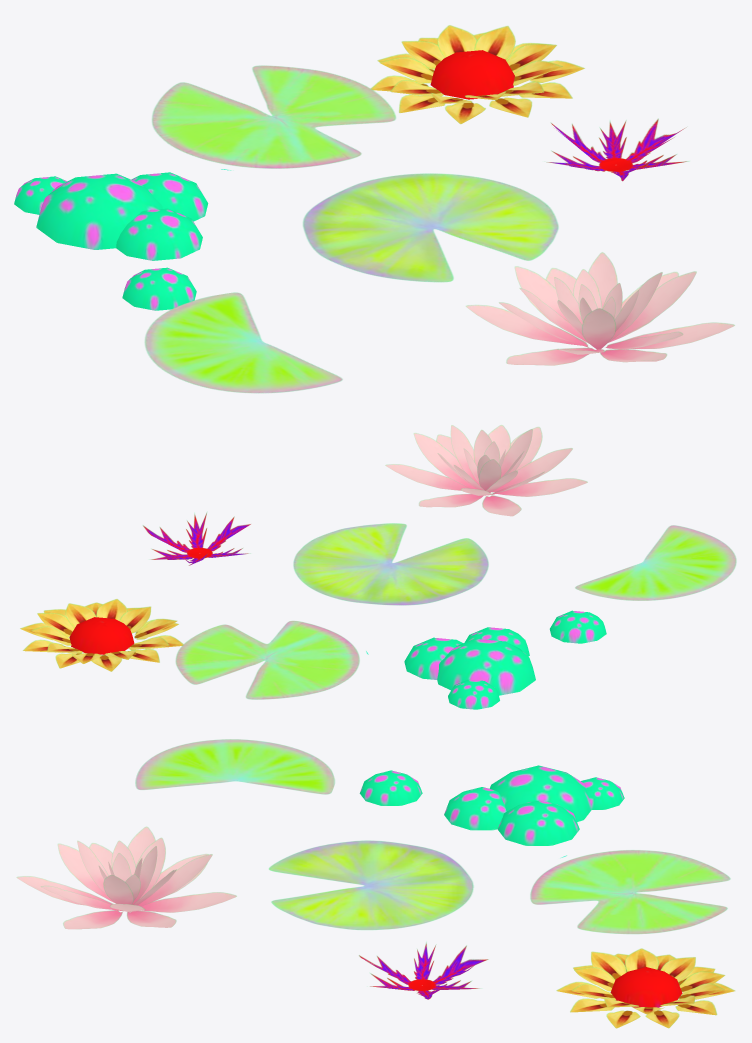
File: nenufar-gigante.glb
3 renders of one model, top to bottom at view 1: azimuth 30°, elevation 25°; view 2: azimuth 150°, elevation 25°; view 3: azimuth 270°, elevation 25°, orthographic. The views are drawn at different scales.
Visible parts, largest first — view 1: veg_nenufar03, veg_nenufar02, veg_flor_nenufar, veg_alga02, veg_flor_xochiquetal, veg_nenufar01, veg_flor_solilia, veg_alga05; view 2: veg_nenufar03, veg_nenufar02, veg_flor_nenufar, veg_flor_xochiquetal, veg_alga02, veg_nenufar01, veg_flor_solilia, veg_alga05; view 3: veg_nenufar03, veg_nenufar02, veg_flor_nenufar, veg_alga02, veg_flor_xochiquetal, veg_nenufar01, veg_flor_solilia, veg_alga05.
Boxes of the visible parts, x1,y1,x2,y2 form: veg_nenufar03: (303,173,558,282); veg_nenufar02: (152,65,395,170); veg_flor_nenufar: (466,252,734,365); veg_alga02: (14,172,208,260); veg_flor_xochiquetal: (370,25,584,123); veg_nenufar01: (144,292,342,393); veg_flor_solilia: (546,118,688,181); veg_alga05: (122,267,196,310); veg_nenufar03: (293,523,488,605); veg_nenufar02: (175,621,368,699); veg_flor_nenufar: (385,425,587,516); veg_flor_xochiquetal: (20,599,183,671); veg_alga02: (404,627,535,709); veg_nenufar01: (575,525,736,600); veg_flor_solilia: (142,513,250,565); veg_alga05: (549,610,606,643); veg_nenufar03: (269,840,473,929); veg_nenufar02: (530,850,730,934); veg_flor_nenufar: (16,826,236,929); veg_alga02: (444,765,624,845); veg_flor_xochiquetal: (556,948,735,1028); veg_nenufar01: (135,739,334,794); veg_flor_solilia: (359,942,488,999); veg_alga05: (359,770,422,805).
Size of the model in its own units: 2.01 by 0.2334 by 2.3.
Materials: 1 (1 with a texture image).
